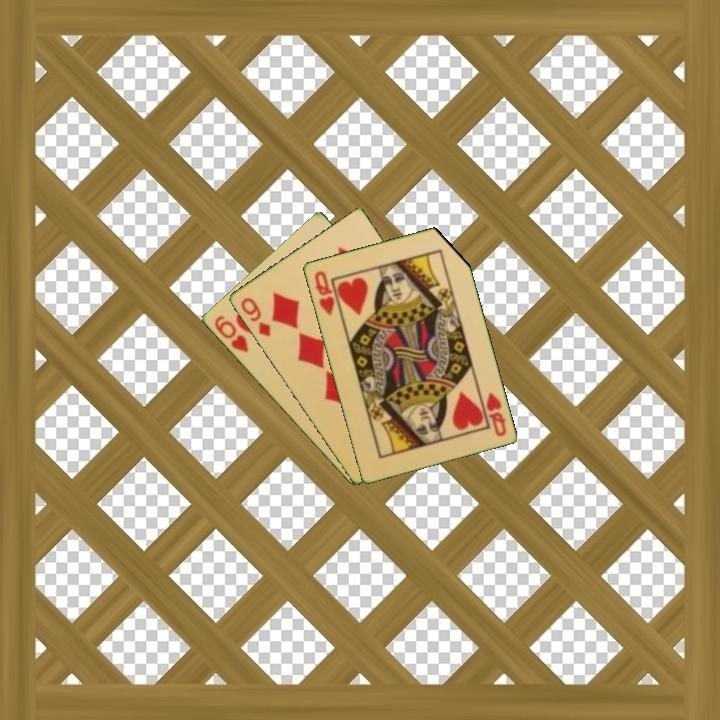6h: (210, 312, 251, 355)
9d: (237, 294, 273, 340)
Qh: (482, 389, 509, 439), (311, 267, 337, 318)
